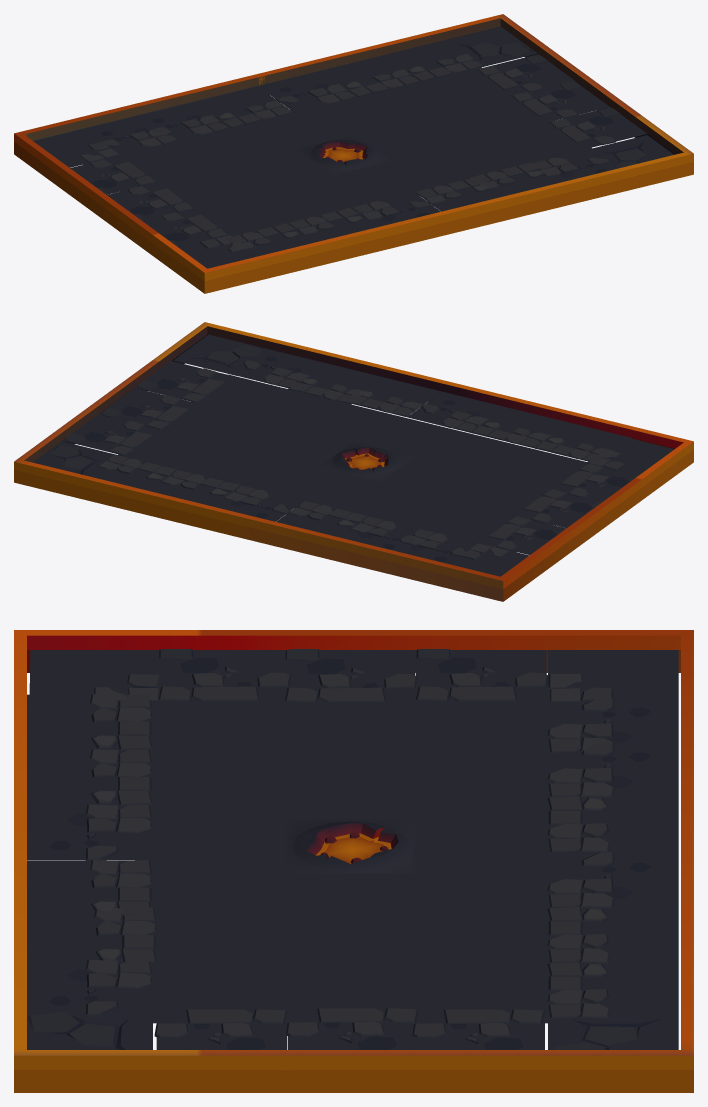
Rendered from arenaboundaries.glb.
3 renders of one model, top to bottom at view 1: azimuth 30°, elevation 25°; view 2: azimuth 150°, elevation 25°; view 3: azimuth 270°, elevation 25°, orthographic. The views are drawn at different scales.
Parts seen in each view (by area): view 1: arenaboundaries; view 2: arenaboundaries; view 3: arenaboundaries.
Boxes of the visible parts, x1,y1,x2,y2 form: arenaboundaries: [14, 14, 693, 293]; arenaboundaries: [14, 322, 693, 601]; arenaboundaries: [14, 630, 693, 1092].
Size of the model in its own units: 15.4 by 0.6312 by 10.4.
2 materials, 2 textured.
